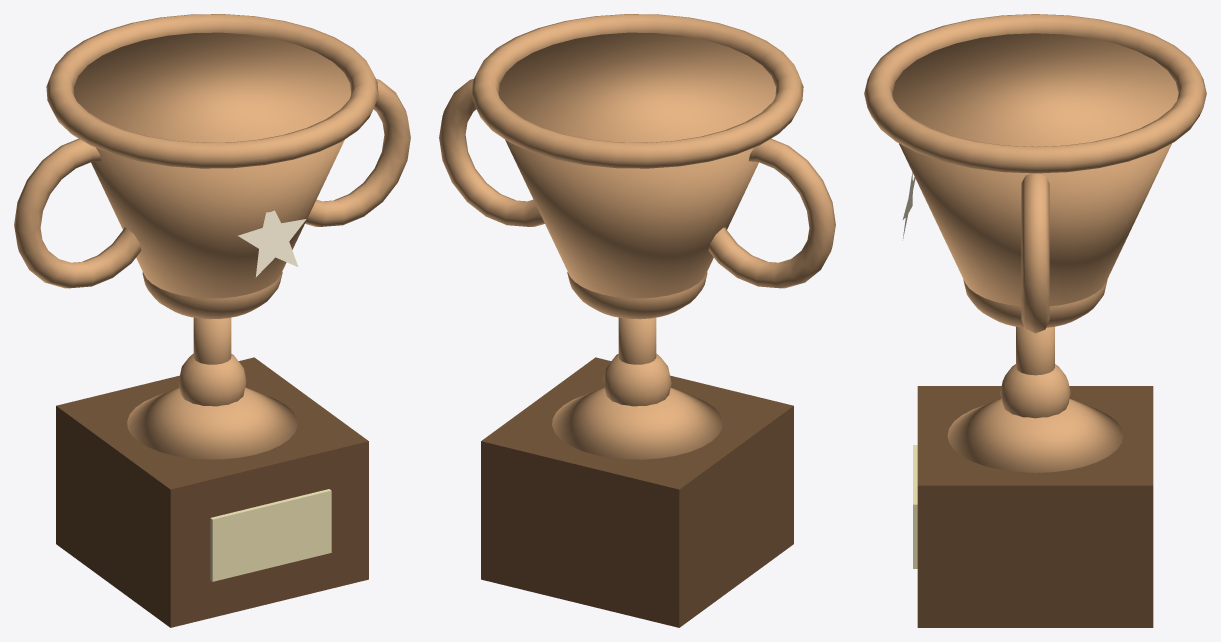
File: cup_bronze.glb
3 views of the same model, side by side, from view 1: azimuth 30°, elevation 25°; view 2: azimuth 150°, elevation 25°; view 3: azimuth 270°, elevation 25° (orthographic). The views are drawn at different scales.
Visible parts, largest first — view 1: Cube, Cone, Torus.006, Cone.001, Cube.001, Torus.007, Torus.008, Sphere.001, Sphere, Star, Cylinder; view 2: Cube, Cone, Torus.006, Cone.001, Torus.007, Torus.008, Sphere.001, Sphere, Cylinder; view 3: Cone, Cube, Torus.006, Cone.001, Torus.008, Sphere.001, Sphere, Cylinder, Cube.001.
Boxes of the visible parts, x1,y1,x2,y2 form: Cube: (56, 357, 368, 627); Cone: (74, 32, 350, 298); Torus.006: (46, 14, 378, 168); Cone.001: (127, 387, 297, 459); Cube.001: (210, 489, 331, 581); Torus.007: (14, 138, 141, 288); Torus.008: (305, 79, 410, 226); Sphere.001: (178, 353, 246, 406); Sphere: (142, 272, 282, 319); Star: (238, 210, 306, 277); Cylinder: (193, 317, 231, 364); Cube: (481, 357, 793, 627); Cone: (499, 32, 775, 298); Torus.006: (471, 14, 803, 168); Cone.001: (552, 387, 722, 459); Torus.007: (708, 138, 835, 288); Torus.008: (439, 79, 544, 226); Sphere.001: (603, 353, 671, 406); Sphere: (567, 272, 707, 319); Cylinder: (618, 317, 656, 364); Cone: (892, 33, 1178, 306); Cube: (917, 386, 1153, 627); Torus.006: (864, 14, 1206, 173); Cone.001: (947, 399, 1123, 472); Torus.008: (1021, 173, 1049, 333); Sphere.001: (1000, 364, 1070, 418); Sphere: (963, 279, 1107, 327); Cylinder: (1016, 326, 1054, 375); Cube.001: (913, 445, 917, 568).
Size of the model in its own units: 0.596 by 0.698 by 0.436.
